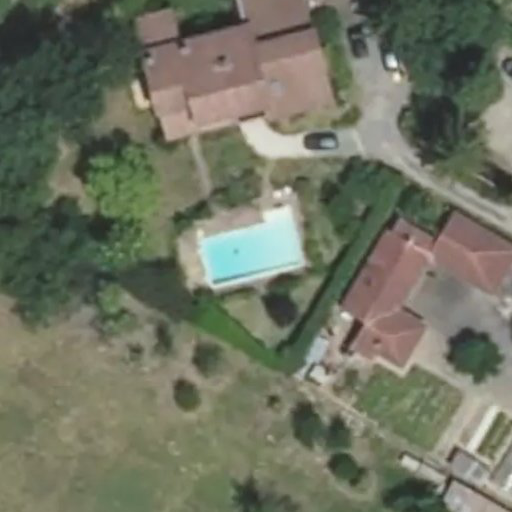pool: (199, 224, 309, 256)
